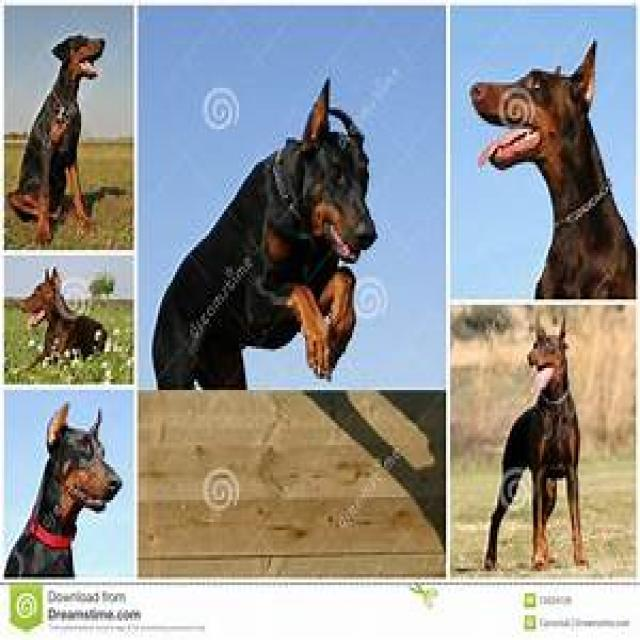dog: (152, 80, 376, 389), (470, 42, 635, 299), (485, 322, 588, 570), (5, 402, 121, 575), (8, 37, 102, 244), (19, 267, 108, 368)
